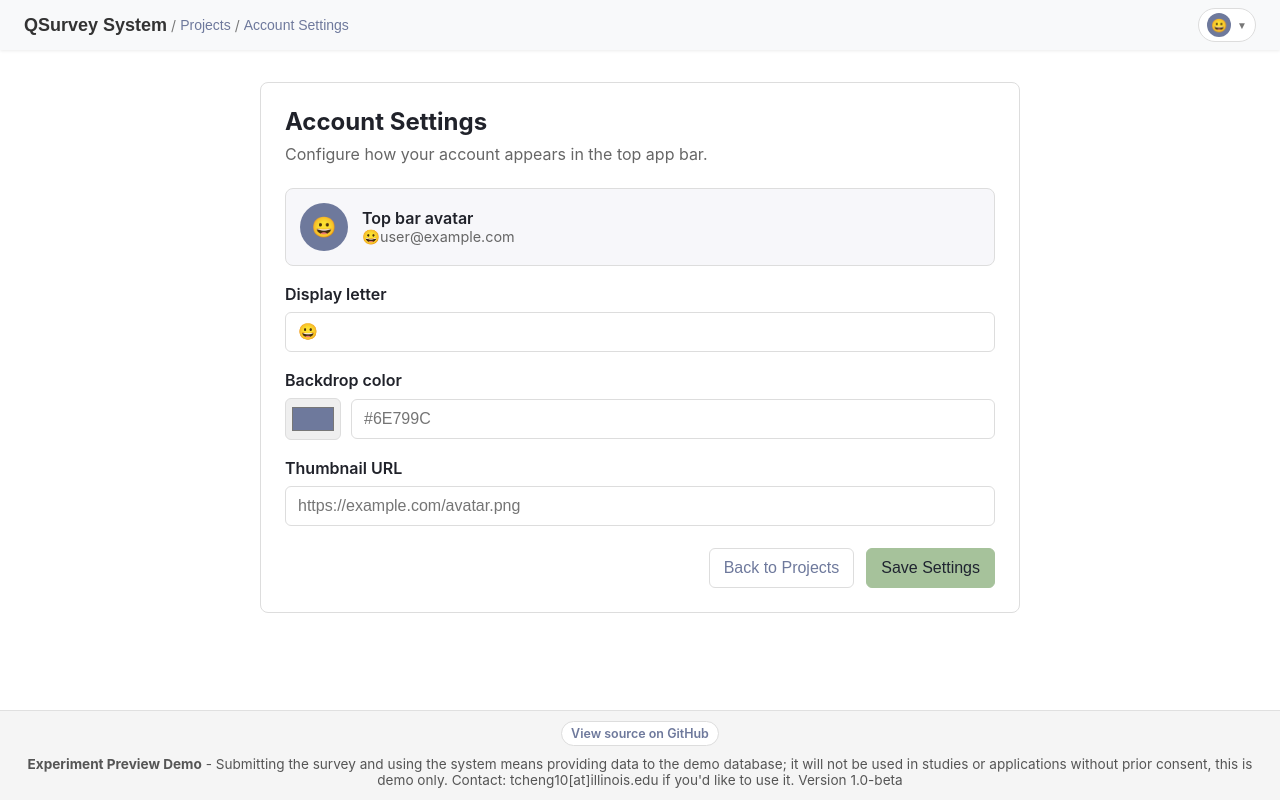
Scenario: AccountSettingsPage › normalizes non-BMP display letters consistently in the form preview
This screenshot has width=1280, height=800.
Expected: the picture named "Avatar preview" reads "😀", [312,215,336,239]
Type "🚀x" into the field labelled "Display letter" at (640, 332), box [285,312,995,352]
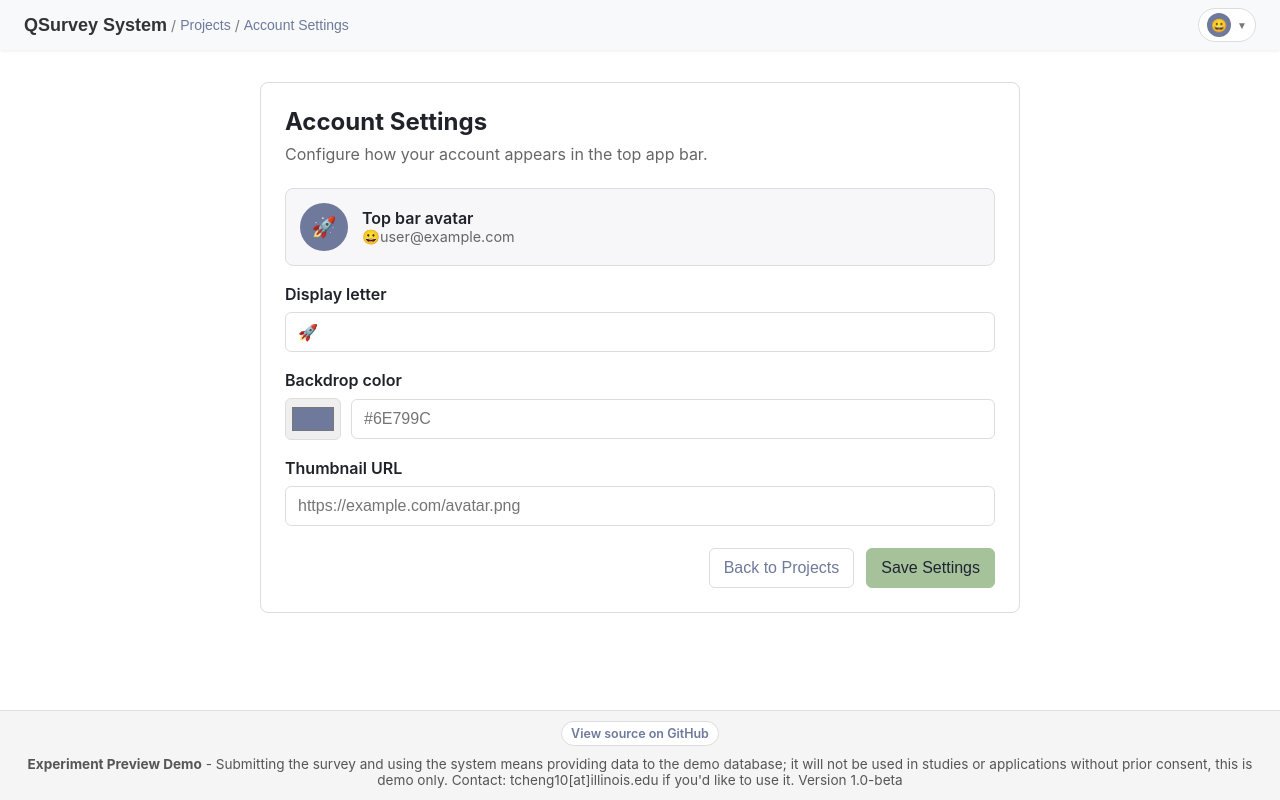
Expected: the field labelled "Display letter" holds "🚀", [285,312,995,352]
Expected: the picture named "Avatar preview" reads "🚀", [312,215,336,239]
